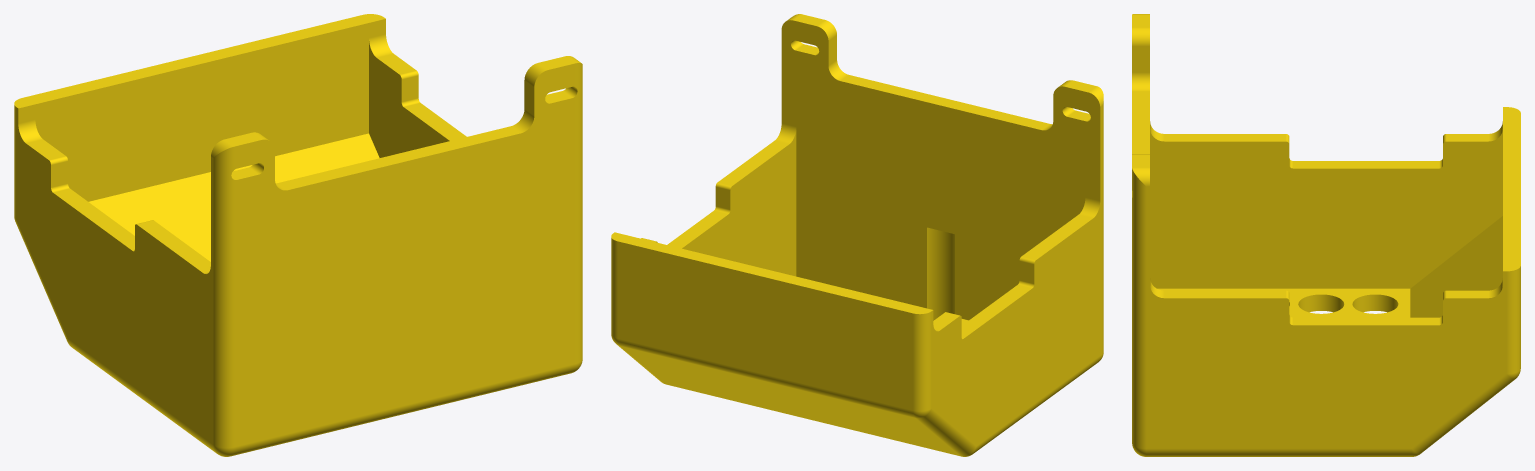
File: A26_H109_cameraCasing.gltf
3 renders of one model, left to right at view 1: azimuth 30°, elevation 25°; view 2: azimuth 150°, elevation 25°; view 3: azimuth 270°, elevation 25°, orthographic. The views are drawn at different scales.
Visible parts, largest first — view 1: mesh371, mesh338, mesh348, mesh306, mesh324, mesh362, mesh334, mesh307, mesh318, mesh312, mesh344, mesh350 (+2 smaller); view 2: mesh370, mesh335, mesh348, mesh362, mesh329, mesh334, mesh303, mesh331, mesh336, mesh318, mesh330, mesh344 (+6 smaller); view 3: mesh361, mesh349, mesh306, mesh312, mesh334, mesh305, mesh310, mesh333, mesh357, mesh327, mesh344, mesh318 (+5 smaller).
Part boxes in pixels (box(x1,y1,x2,y2)): mesh371: box(234, 63, 574, 446); mesh338: box(18, 19, 385, 201); mesh348: box(16, 107, 212, 444); mesh306: box(89, 133, 379, 261); mesh324: box(213, 147, 234, 447); mesh362: box(369, 41, 449, 157); mesh334: box(14, 14, 385, 108); mesh307: box(231, 364, 574, 456); mesh318: box(279, 126, 520, 189); mesh312: box(575, 63, 582, 363); mesh344: box(53, 188, 134, 250); mesh350: box(137, 220, 210, 272); mesh370: box(781, 20, 1100, 320); mesh335: box(618, 241, 912, 410); mesh348: box(931, 106, 1101, 445); mesh362: box(656, 130, 796, 276); mesh329: box(620, 346, 959, 455); mesh334: box(611, 232, 932, 314); mesh303: box(927, 227, 954, 320); mesh331: box(618, 338, 914, 417); mesh336: box(913, 311, 931, 411); mesh318: box(841, 75, 1049, 129); mesh330: box(916, 408, 976, 456); mesh344: box(961, 285, 1031, 338); mesh361: box(1146, 186, 1506, 448); mesh349: box(1150, 129, 1502, 288); mesh306: box(1410, 216, 1502, 317); mesh312: box(1132, 168, 1146, 448); mesh334: box(1503, 107, 1520, 271); mesh305: box(1157, 288, 1410, 317); mesh310: box(1146, 448, 1411, 456); mesh333: box(1506, 266, 1520, 373); mesh357: box(1293, 317, 1439, 325); mesh327: box(1412, 374, 1514, 454); mesh344: box(1293, 161, 1439, 168); mesh318: box(1132, 91, 1149, 153).
Size of the model in its own units: 0.0431 by 0.0352 by 0.0431.
